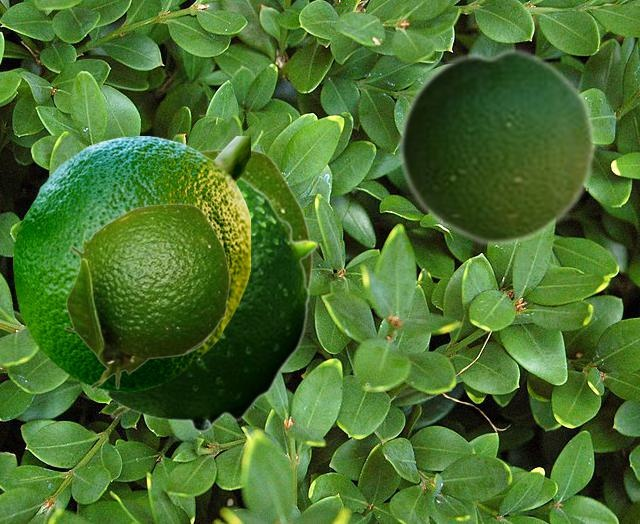dalandan: (13, 136, 249, 390), (100, 177, 318, 432), (109, 148, 312, 418), (397, 45, 596, 247), (63, 203, 229, 389)
